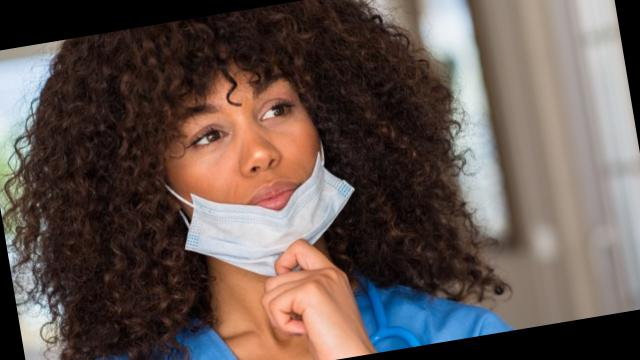mask_weared_incorrect: (167, 80, 349, 270)
